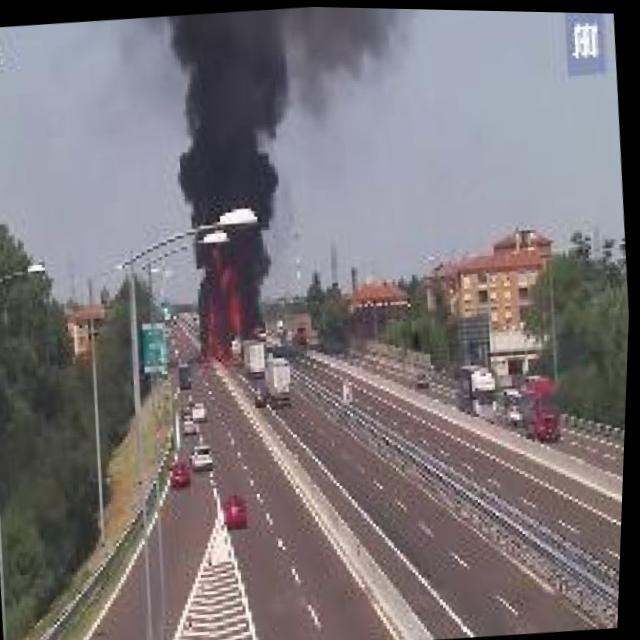fire: (189, 249, 253, 364)
